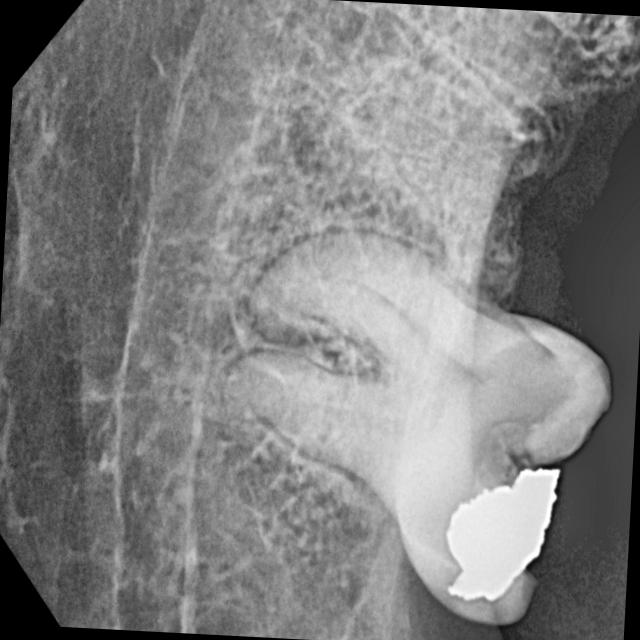Restoration: (412, 467, 572, 625)
